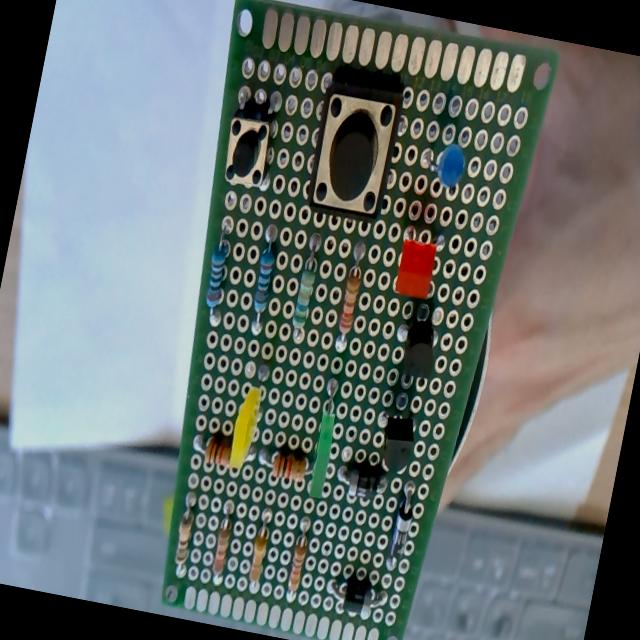diode: (327, 570, 387, 618), (387, 482, 420, 566), (334, 456, 391, 504)
led: (304, 376, 344, 499), (390, 225, 444, 308), (233, 365, 270, 459), (418, 139, 470, 195)
resistor: (196, 228, 238, 328), (289, 233, 325, 340), (246, 230, 282, 335), (333, 260, 365, 351), (170, 490, 200, 572), (247, 508, 276, 588), (286, 514, 314, 596), (198, 431, 253, 472), (210, 508, 236, 578), (264, 447, 310, 484)
switch: (303, 73, 407, 224), (217, 87, 283, 193)
transistor: (397, 316, 441, 386), (377, 413, 418, 476)
